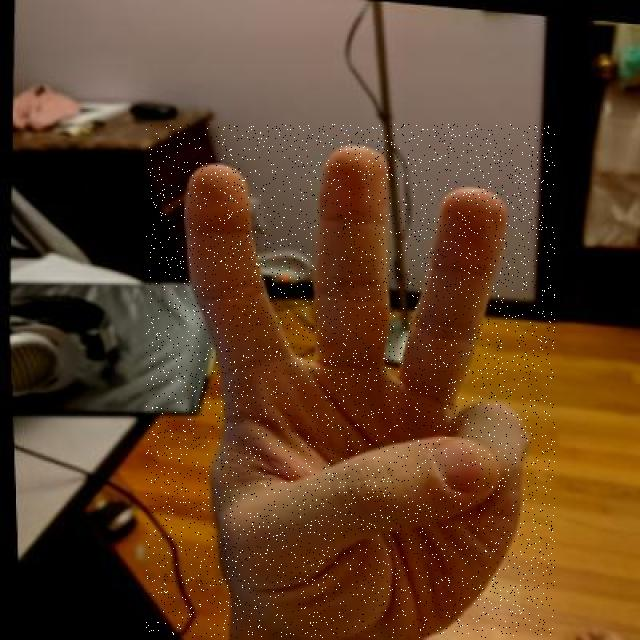W: (146, 124, 555, 638)
